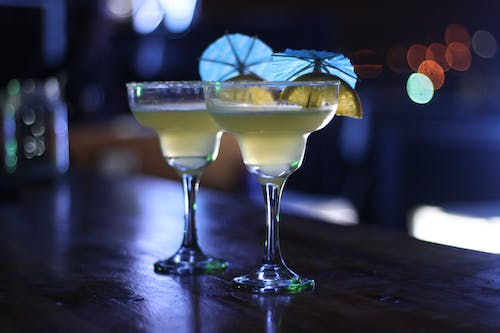alcohol: (204, 79, 342, 296), (125, 80, 230, 277)
